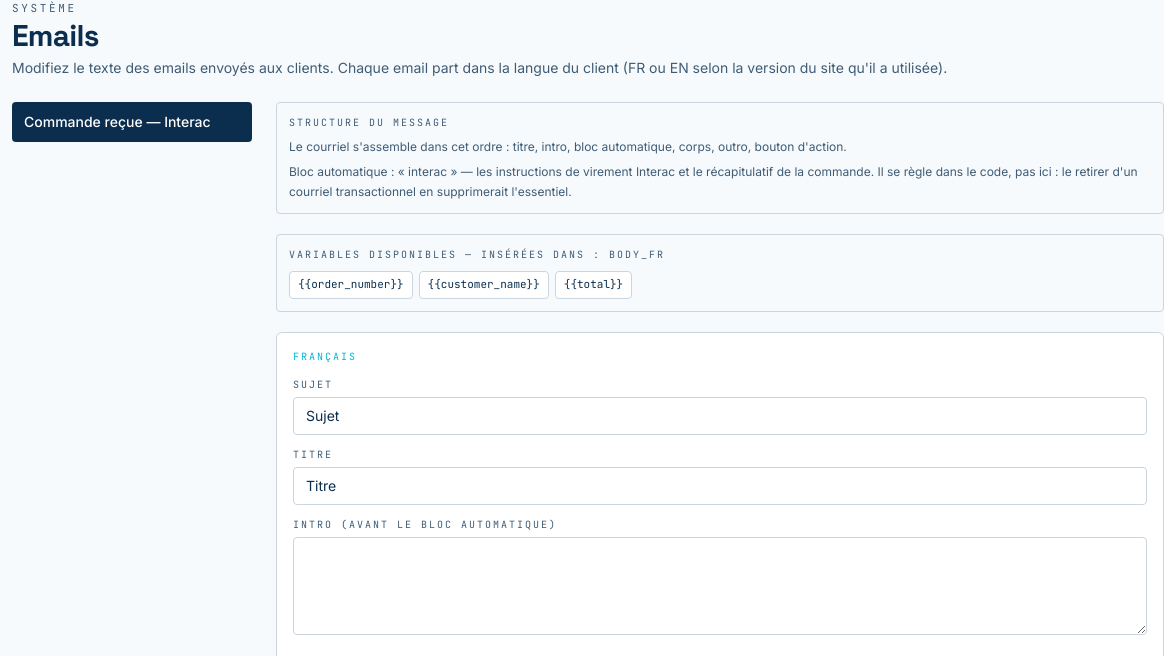
Test: LE CAS : le bouton insère exactement deux accolades
The width and height of the screenshot is (1164, 656).
What coordinates should you click on to do the following:
click the button with test id "email-var-order_number"
I would click on:
 (351, 285)
Its box is [289,271,413,299].
(page scrolled)
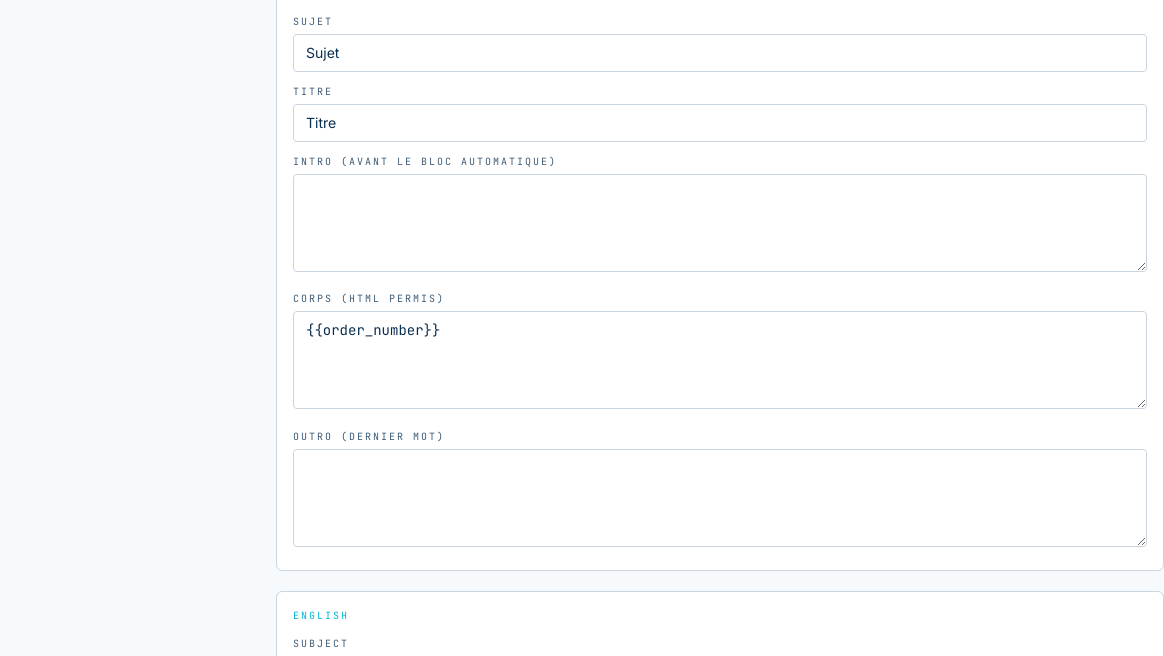
Expected: the text box with test id "email-body-fr" holds "{{order_number}}", [293,311,1147,409]
